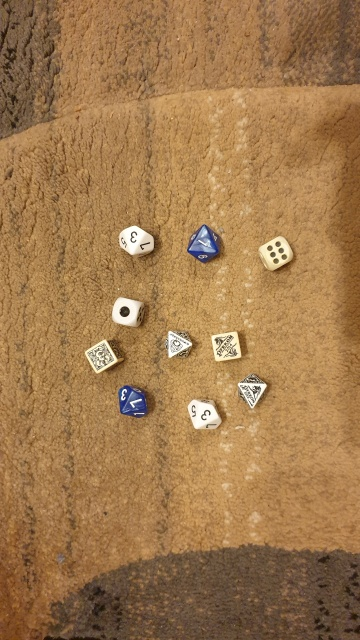d10-1: (182, 223, 227, 264)
d10-3: (184, 393, 225, 437), (113, 224, 161, 260)
d10-7: (113, 382, 151, 423)
d6-1: (107, 295, 147, 329)
d6-6: (254, 232, 298, 274)
d6p-1: (208, 329, 244, 365)
d6p-3: (83, 339, 129, 376)
d8p-1: (233, 371, 275, 413)
d8p-8: (160, 327, 197, 364)
